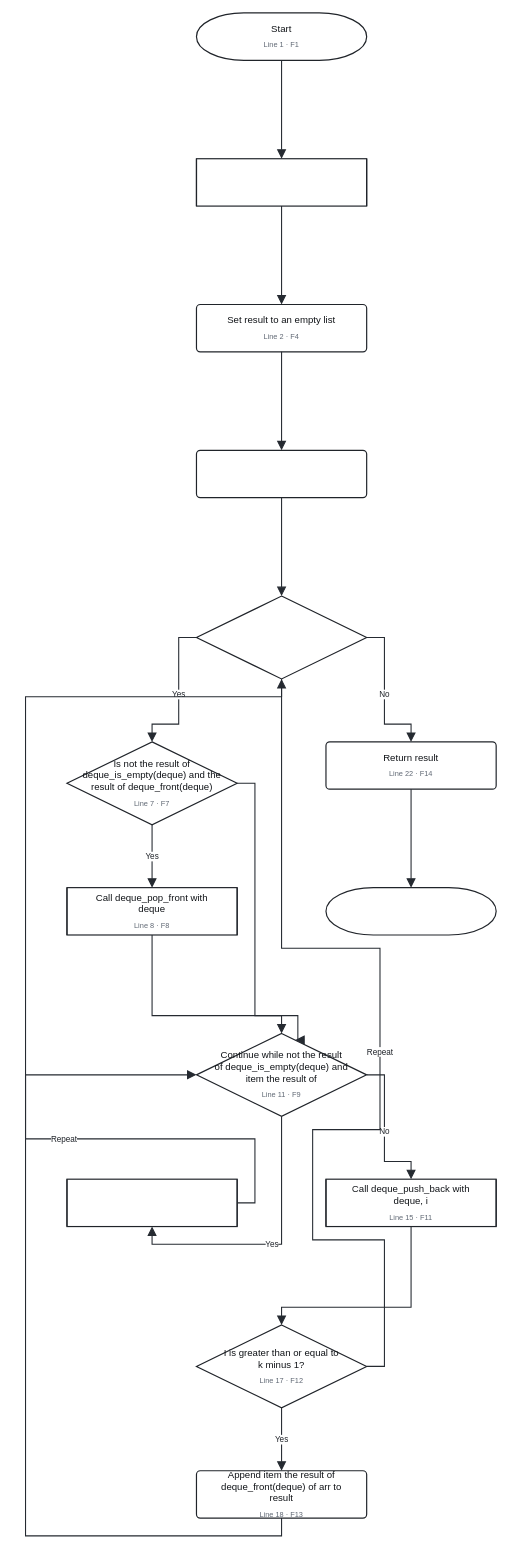
Image size: 510x1550. Some labels were removed from this diagram. The shapes that lost their labels are listed below. From the top down, each one's centre as x and y in pixels, then its label:
At point (281, 182): "Run function SlidingWindowMaximum with arr, k Line 1 · F3".
At point (281, 473): "Set deque to the result of create_deque() Line 3 · F5".
At point (281, 637): "For i from 0 to the length of arr minus 1 plus 1 Line 6 · F6".
At point (410, 911): "End Line 1 · F2".
At point (151, 1202): "Call deque_pop_back with deque Line 12 · F10".
